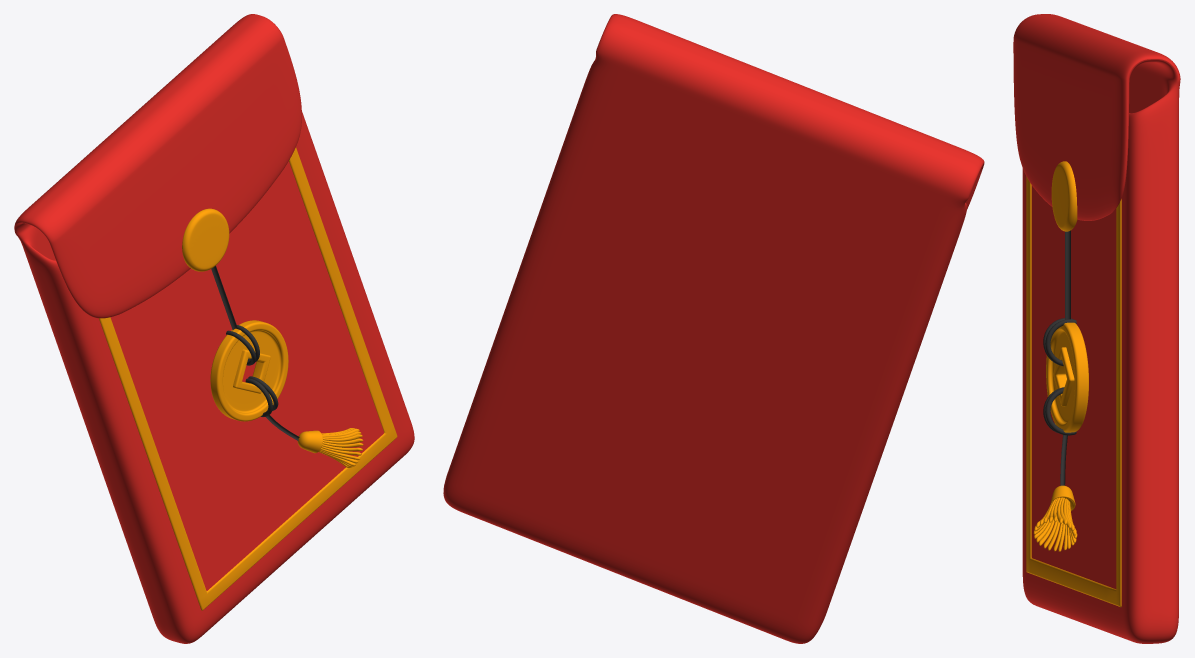
Rendered from lixi_gold.glb.
3 renders of one model, left to right at view 1: azimuth 30°, elevation 25°; view 2: azimuth 150°, elevation 25°; view 3: azimuth 270°, elevation 25°, orthographic. The views are drawn at different scales.
Visible parts, largest first — view 1: Cube, Cube.001, Circle.108, Circle.106, Circle.109, Plane.041; view 2: Cube; view 3: Cube, Cube.001, Circle.108, Circle.106, Circle.109, Plane.041, Circle.110, Circle.107, Circle.111.
Boxes of the visible parts, x1,y1,x2,y2 form: Cube: (14, 14, 414, 643); Cube.001: (99, 147, 397, 610); Circle.108: (210, 320, 288, 421); Circle.106: (182, 208, 229, 271); Circle.109: (226, 325, 278, 416); Plane.041: (233, 349, 270, 393); Cube: (443, 14, 984, 643); Cube: (1013, 14, 1180, 643); Cube.001: (1026, 176, 1121, 606); Circle.108: (1046, 322, 1088, 432); Circle.106: (1051, 161, 1077, 231); Circle.109: (1043, 318, 1076, 435); Plane.041: (1053, 347, 1074, 406); Circle.110: (1065, 230, 1070, 319); Circle.107: (1050, 485, 1075, 511); Circle.111: (1060, 435, 1067, 485).
Bounding box in the file's own units: 5.61 × 6.93 × 1.71.
